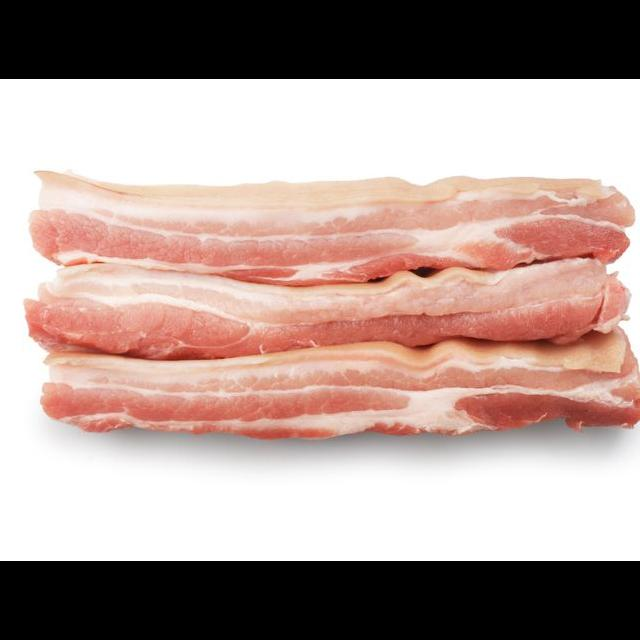pork: (28, 160, 636, 270), (37, 340, 640, 444), (20, 257, 629, 351)
